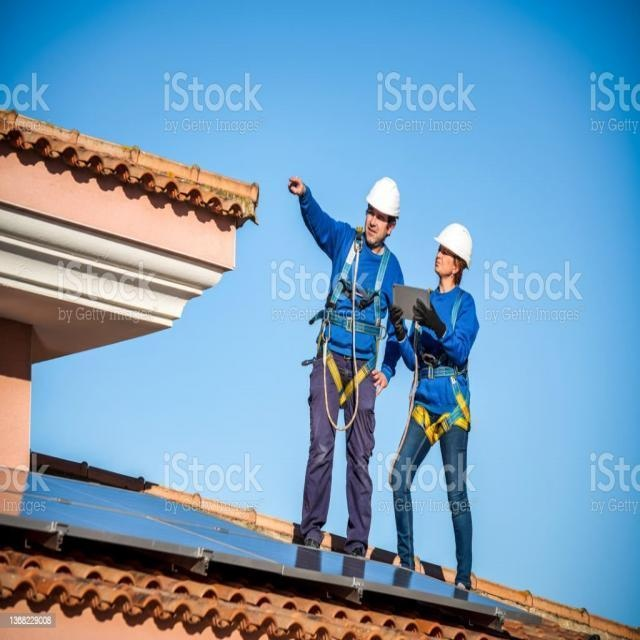Arnes_seguridad: (314, 223, 392, 411), (405, 287, 478, 447)
